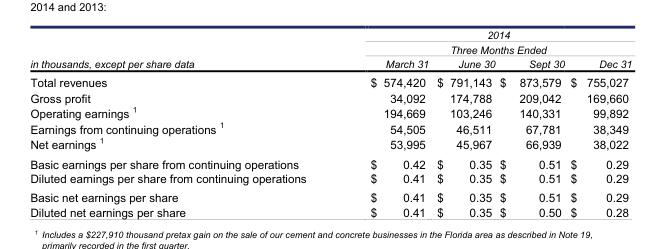table: (29, 28, 631, 218)
table column: (29, 28, 337, 218), (337, 28, 432, 218), (496, 28, 566, 218), (566, 28, 631, 218), (432, 28, 496, 218)
table column header: (29, 28, 631, 72)
table row: (29, 28, 631, 56), (29, 135, 631, 153), (29, 72, 631, 89), (29, 153, 631, 170), (29, 170, 631, 187), (29, 187, 631, 204), (29, 56, 631, 72), (29, 119, 631, 135), (29, 89, 631, 104), (29, 104, 631, 119), (29, 204, 631, 218)
table spanning cell: (29, 28, 337, 72), (337, 28, 631, 56)
